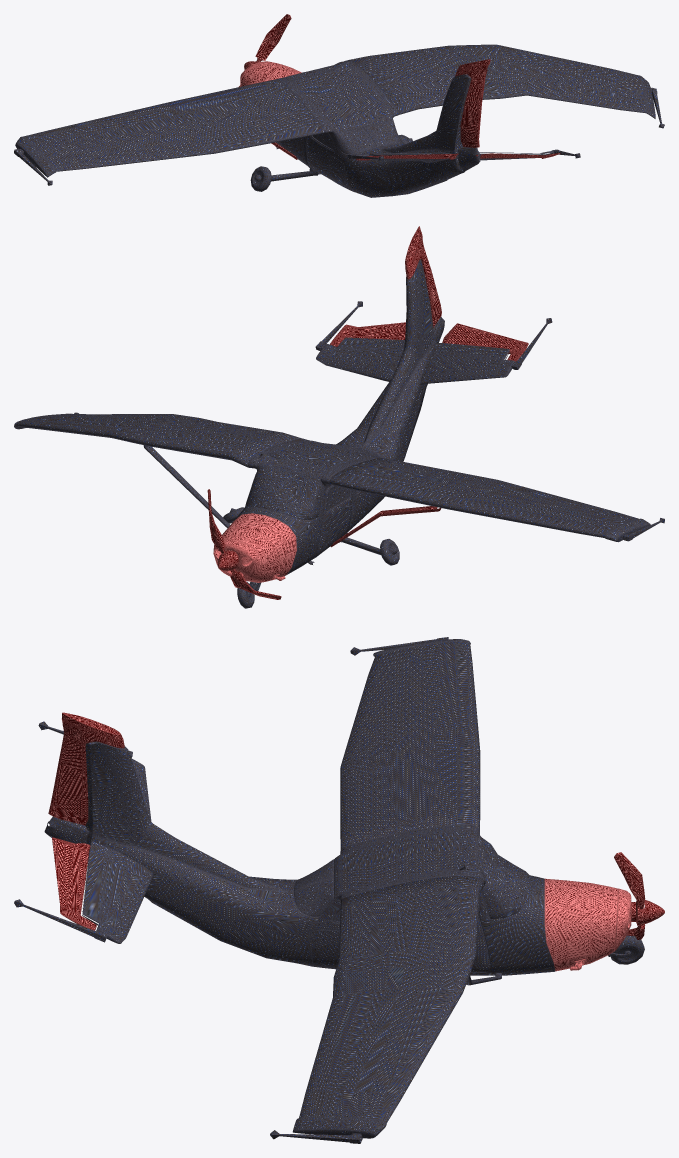
The model's file is Neoflycrashedplane4.gltf.
3 views of the same model, one above another, from view 1: azimuth 30°, elevation 25°; view 2: azimuth 150°, elevation 25°; view 3: azimuth 270°, elevation 25° (orthographic). The views are drawn at different scales.
Visible parts, largest first — view 1: xtras_2.001, halerorvert_2, xtras_4, haleror_2, xtras_3; view 2: xtras_2.001, xtras_4, haleror_2, halerorvert_2, xtras_3, xtras_2.002; view 3: xtras_2.001, xtras_4, halerorvert_2, haleror_2, xtras_3.
Part boxes in pixels (<box>): xtras_2.001: <box>14,44,664,197</box>; halerorvert_2: <box>455,59,490,147</box>; xtras_4: <box>240,61,301,86</box>; haleror_2: <box>356,153,560,160</box>; xtras_3: <box>238,14,291,87</box>; xtras_2.001: <box>14,259,664,608</box>; xtras_4: <box>213,513,296,582</box>; haleror_2: <box>330,322,528,361</box>; halerorvert_2: <box>405,226,441,327</box>; xtras_3: <box>207,489,281,599</box>; xtras_2.002: <box>330,506,441,547</box>; xtras_2.001: <box>14,637,644,1143</box>; xtras_4: <box>544,878,631,971</box>; halerorvert_2: <box>48,712,124,825</box>; haleror_2: <box>52,837,96,930</box>; xtras_3: <box>614,852,664,939</box>.
Size of the model in its own units: 12.53 by 3.96 by 8.33.
